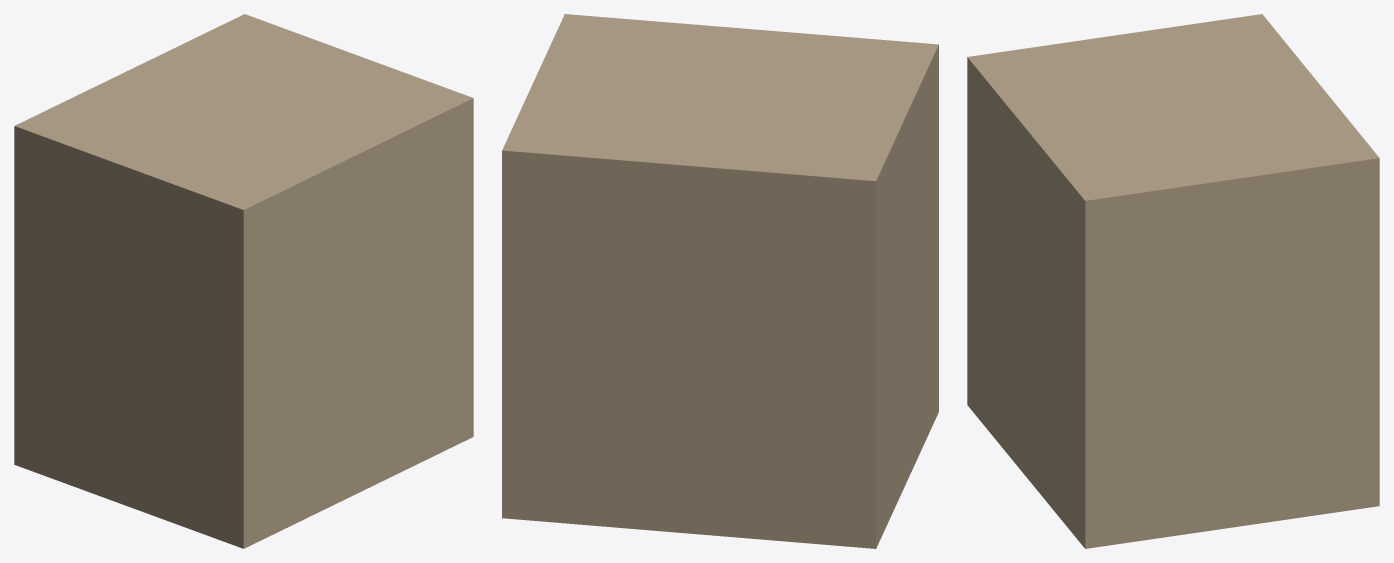
The model's file is bld_108162159.dae.
3 views of the same model, side by side, from view 1: azimuth 30°, elevation 25°; view 2: azimuth 150°, elevation 25°; view 3: azimuth 270°, elevation 25° (orthographic). The views are drawn at different scales.
Visible parts, largest first — view 1: bld_108162159; view 2: bld_108162159; view 3: bld_108162159.
Part boxes in pixels (box(x1,y1,x2,y2)): bld_108162159: box(14, 14, 473, 548); bld_108162159: box(502, 14, 938, 548); bld_108162159: box(967, 14, 1379, 548).
Bounding box in the file's own units: 9.22 × 8.59 × 8.
